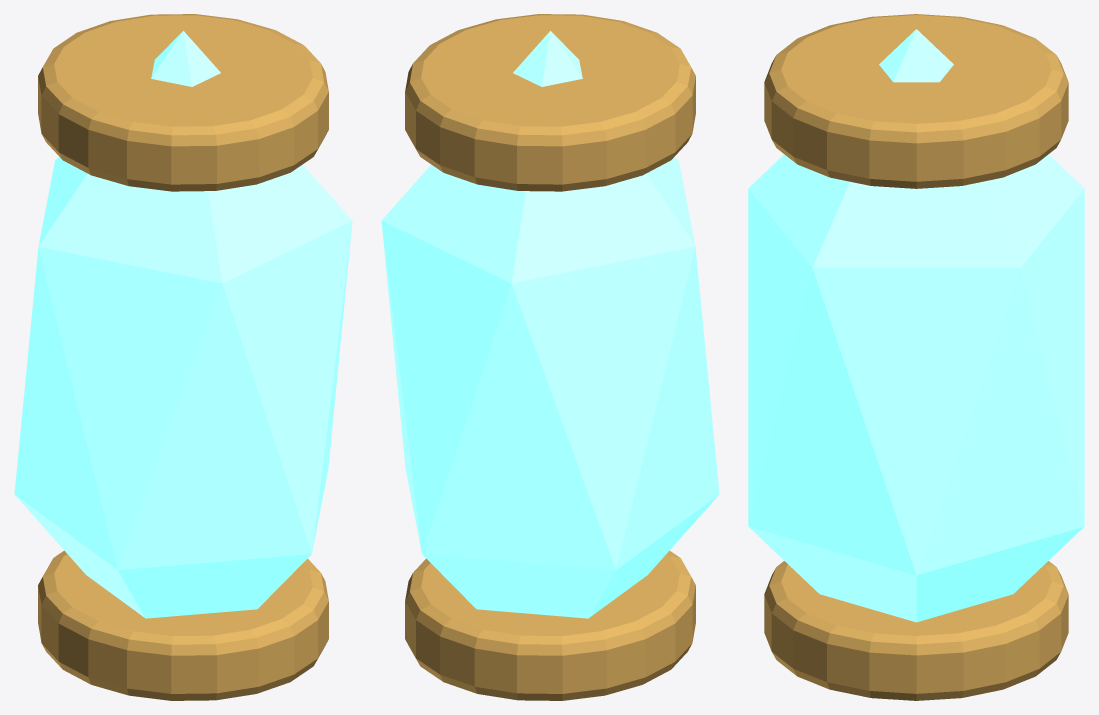
Rendered from SM_Energy.fbx.
3 views of the same model, side by side, from view 1: azimuth 30°, elevation 25°; view 2: azimuth 150°, elevation 25°; view 3: azimuth 270°, elevation 25° (orthographic).
Parts seen in each view (by area): view 1: SM_Energy; view 2: SM_Energy; view 3: SM_Energy.
Boxes of the visible parts, x1,y1,x2,y2 form: SM_Energy: [14, 14, 352, 700]; SM_Energy: [381, 14, 719, 700]; SM_Energy: [748, 14, 1084, 700].
Bounding box in the file's own units: 65 × 65 × 140.
